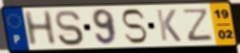9: (90, 8, 118, 47)
H: (21, 10, 59, 48)
K: (155, 8, 183, 43)
S: (54, 9, 86, 47), (120, 7, 149, 45)
Z: (183, 7, 214, 43)
